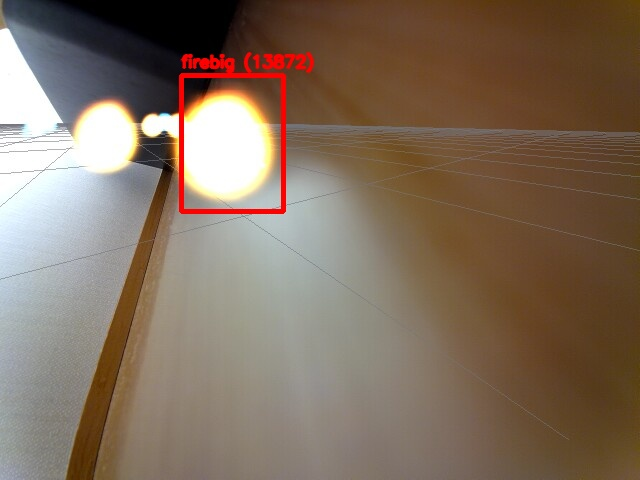firebig: (181, 75, 283, 211)
